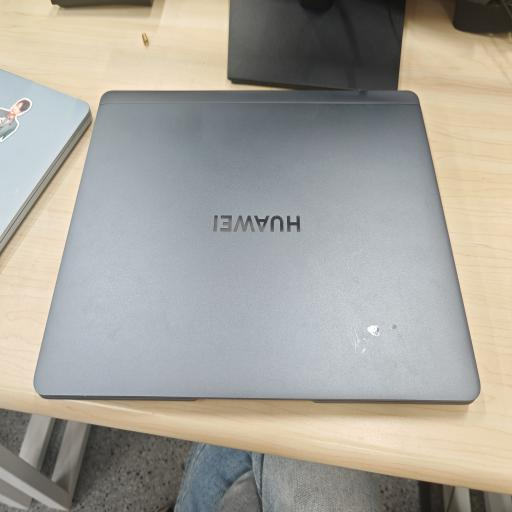laptop: (34, 91, 480, 403), (0, 69, 91, 251)
